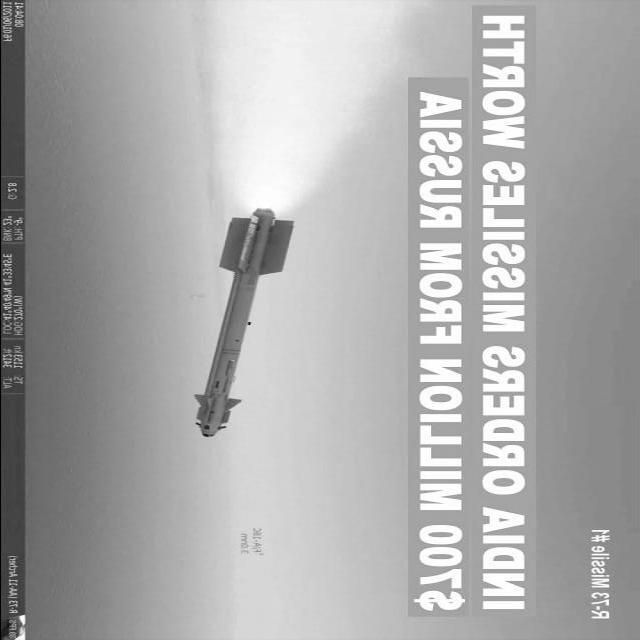Missile: (187, 200, 304, 451)
